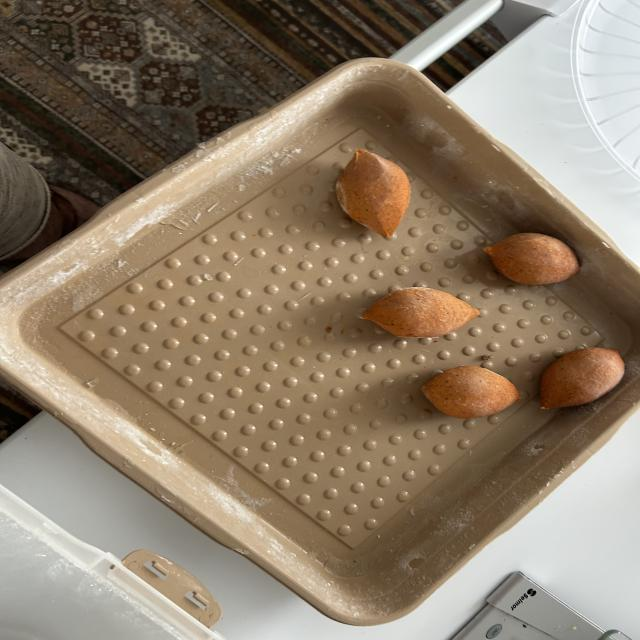kobi: (354, 285, 484, 340), (334, 148, 414, 236), (538, 350, 632, 408), (480, 236, 586, 283), (420, 368, 519, 416)
